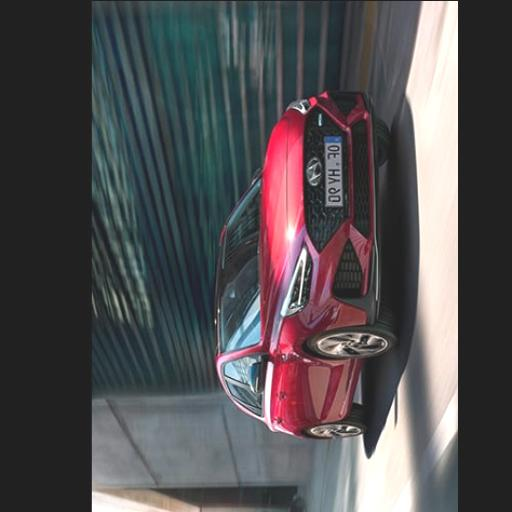hatchback: (214, 89, 396, 437)
